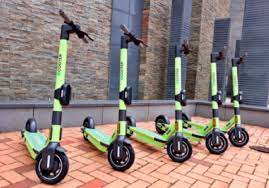kick_board: (21, 9, 88, 184)
kick_handler: (59, 10, 93, 42), (120, 24, 148, 49), (175, 39, 191, 57), (210, 46, 226, 62), (232, 53, 247, 65)
kick_neck: (55, 40, 68, 140), (119, 50, 132, 133), (210, 64, 223, 129), (174, 59, 185, 131), (232, 69, 243, 125)
kick_wheel: (34, 150, 69, 183), (107, 140, 135, 171), (168, 136, 192, 161), (205, 132, 229, 154), (229, 128, 248, 147), (155, 114, 168, 134), (83, 116, 92, 140), (25, 119, 36, 132)
